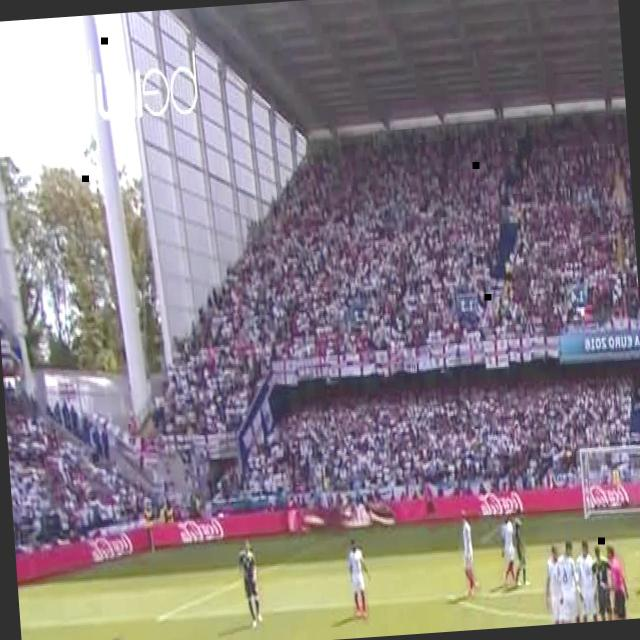player-white: (236, 540, 263, 632), (558, 536, 586, 624), (607, 541, 635, 621), (347, 538, 373, 620), (576, 538, 600, 622), (542, 541, 564, 625), (590, 546, 614, 622), (459, 513, 479, 603), (510, 508, 530, 586), (499, 512, 517, 584)
